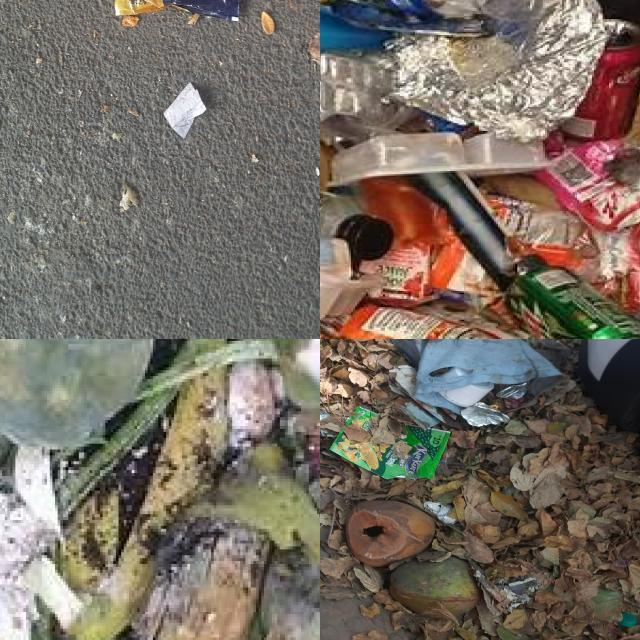Garbage: (320, 0, 640, 339), (320, 339, 640, 640)
Plastic: (320, 53, 414, 146), (439, 383, 494, 407), (618, 612, 637, 628)
Plastic_Bag: (0, 339, 320, 640), (0, 339, 154, 448), (520, 339, 571, 367)
Plastic_Container: (333, 132, 547, 185), (320, 270, 378, 319)
Plastic_bottle: (381, 0, 551, 37), (320, 192, 393, 270)
Plastic_wraper: (384, 0, 607, 141), (361, 177, 502, 305), (536, 139, 640, 230), (488, 195, 596, 270), (330, 426, 450, 479), (337, 304, 513, 339), (320, 0, 491, 36), (593, 225, 640, 312), (460, 402, 509, 426), (320, 409, 343, 438), (347, 407, 375, 428), (497, 383, 529, 399)
can: (506, 256, 640, 339), (560, 20, 640, 140)
